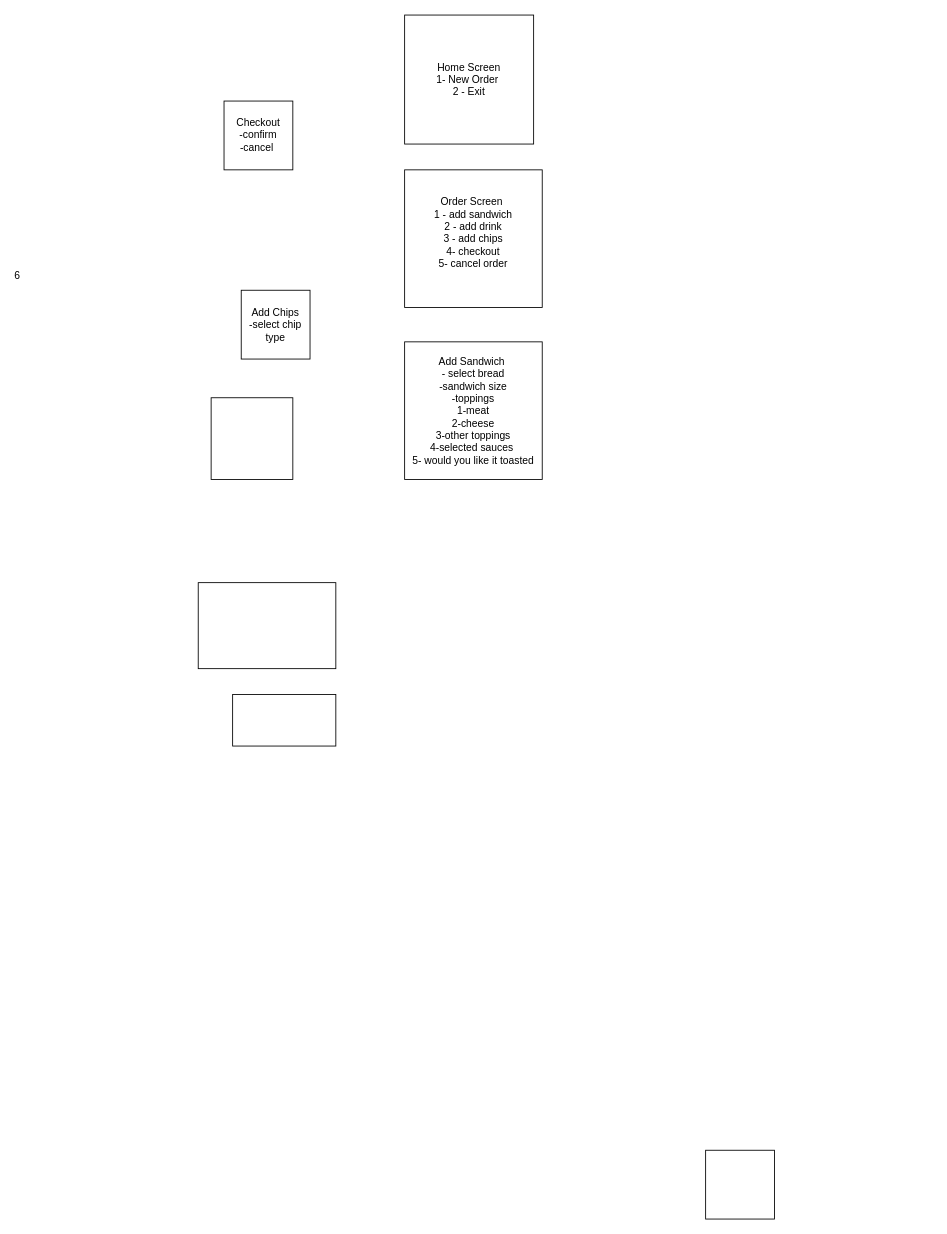
Some shapes in this 947 by 1234 pixel diagram are drawn without their labels. Here are the shapes that lost their labels. From the top down, the centre of each, then its label:
At [251,438]: "Add Drink - select size".
At [266,625]: "Product -name -size".
At [284,720]: "toppings".
